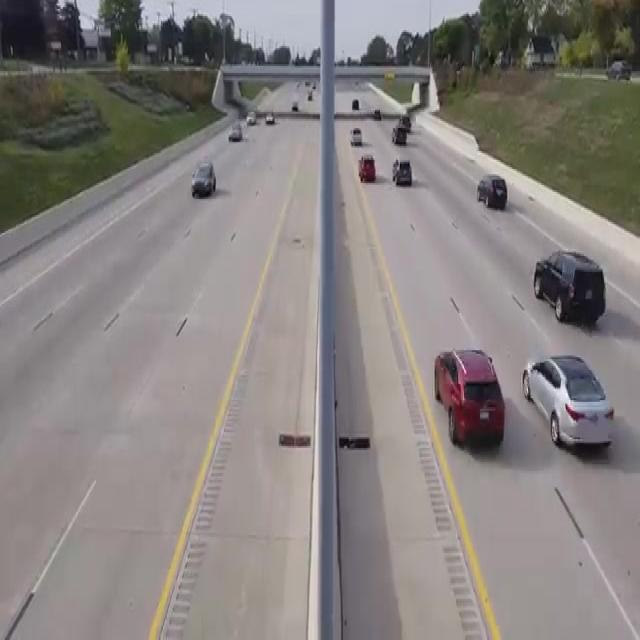car: (519, 350, 627, 456), (423, 339, 508, 460), (525, 242, 620, 323), (473, 166, 520, 215), (187, 149, 220, 208), (383, 162, 426, 186), (221, 116, 247, 152), (392, 107, 421, 135), (358, 149, 379, 186), (386, 123, 414, 150), (244, 100, 261, 134), (343, 122, 364, 142), (265, 109, 280, 126), (364, 110, 386, 118), (351, 97, 362, 111)
